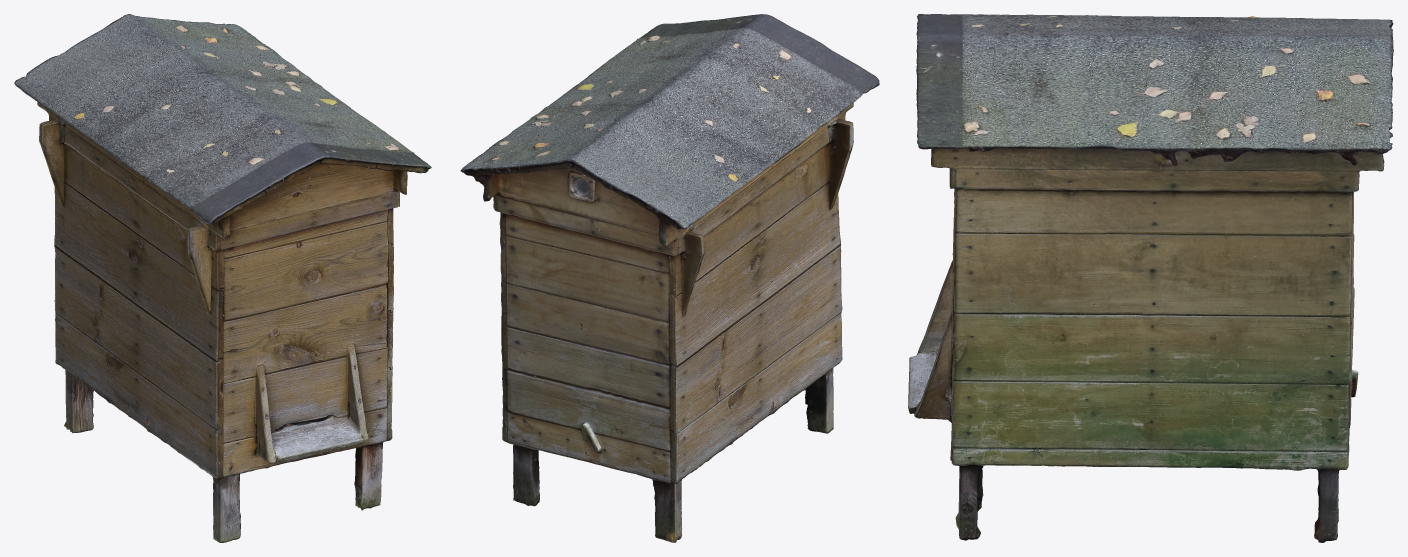
Rendered from sf-beehive-box-79e7f4.glb.
The picture shows the model from 3 angles, left to right: view 1: azimuth 30°, elevation 25°; view 2: azimuth 150°, elevation 25°; view 3: azimuth 270°, elevation 25°; orthographic projection. The views are drawn at different scales.
Visible parts, largest first — view 1: Object_2; view 2: Object_2; view 3: Object_2.
Part boxes in pixels (bbox=[...]): Object_2: bbox=[14, 14, 431, 542]; Object_2: bbox=[460, 14, 879, 542]; Object_2: bbox=[908, 14, 1393, 542].
Bounding box in the file's own units: 0.7803 × 1.25 × 1.19.
1 material, 1 textured.
